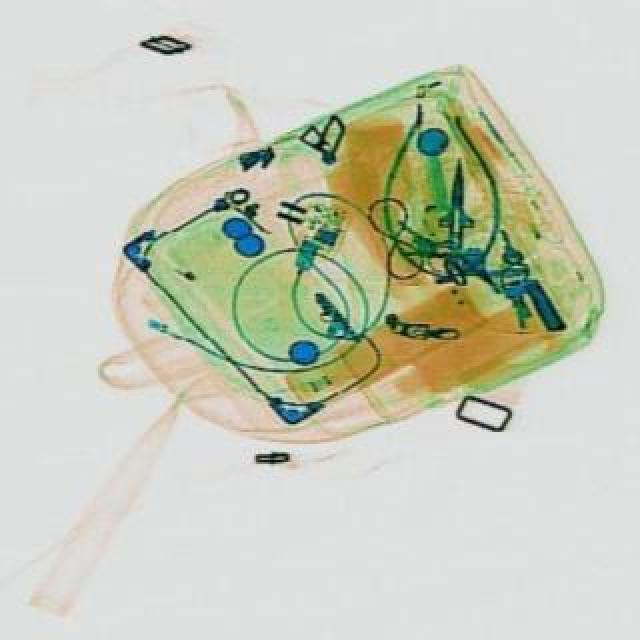knife: (434, 156, 476, 248)
